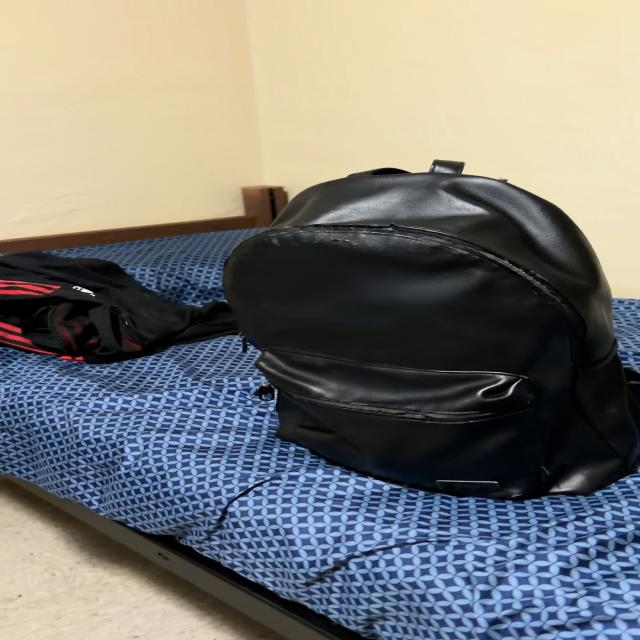backpack: (224, 161, 638, 498), (627, 374, 632, 376)
